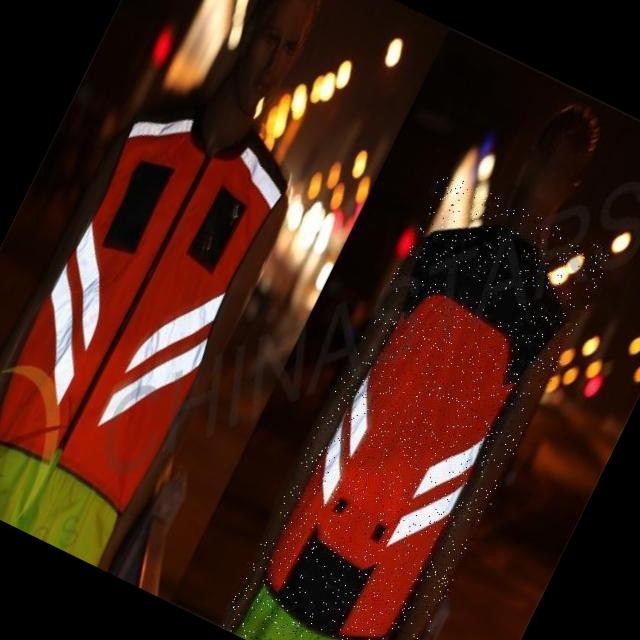safety_vest: (219, 169, 613, 640), (0, 71, 337, 581)
